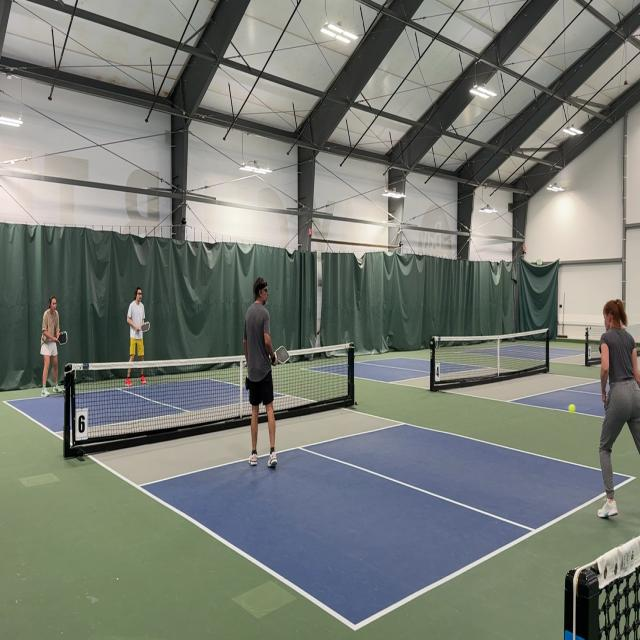ball: (567, 402, 576, 414)
